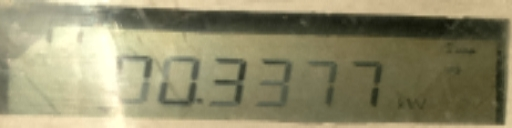0: (153, 51, 204, 107), (110, 48, 153, 111)
3: (250, 46, 294, 117), (206, 48, 250, 111)
7: (341, 44, 390, 121), (294, 44, 337, 120)
d: (196, 95, 206, 106)
